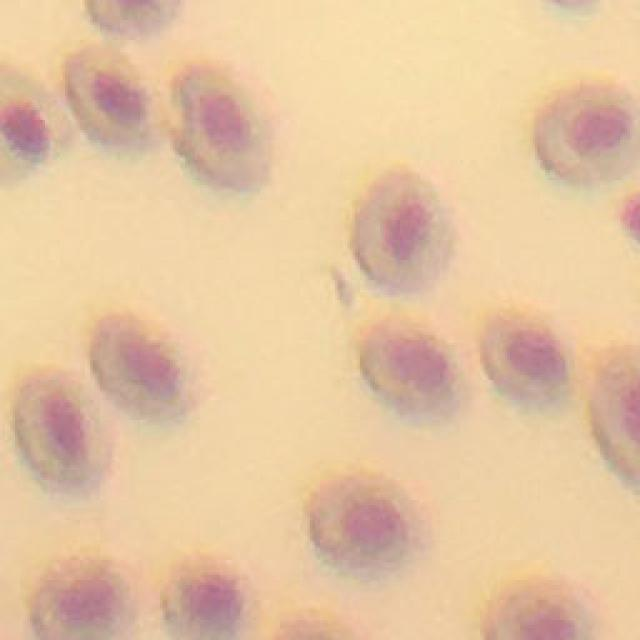RBC: (175, 65, 273, 189), (15, 372, 110, 498), (90, 315, 202, 421), (355, 170, 452, 292), (308, 475, 420, 580), (362, 320, 460, 422), (538, 84, 640, 182), (65, 45, 150, 148), (0, 65, 72, 181), (32, 560, 135, 640), (482, 315, 570, 402), (162, 559, 252, 639), (485, 580, 605, 640), (592, 343, 640, 489)
